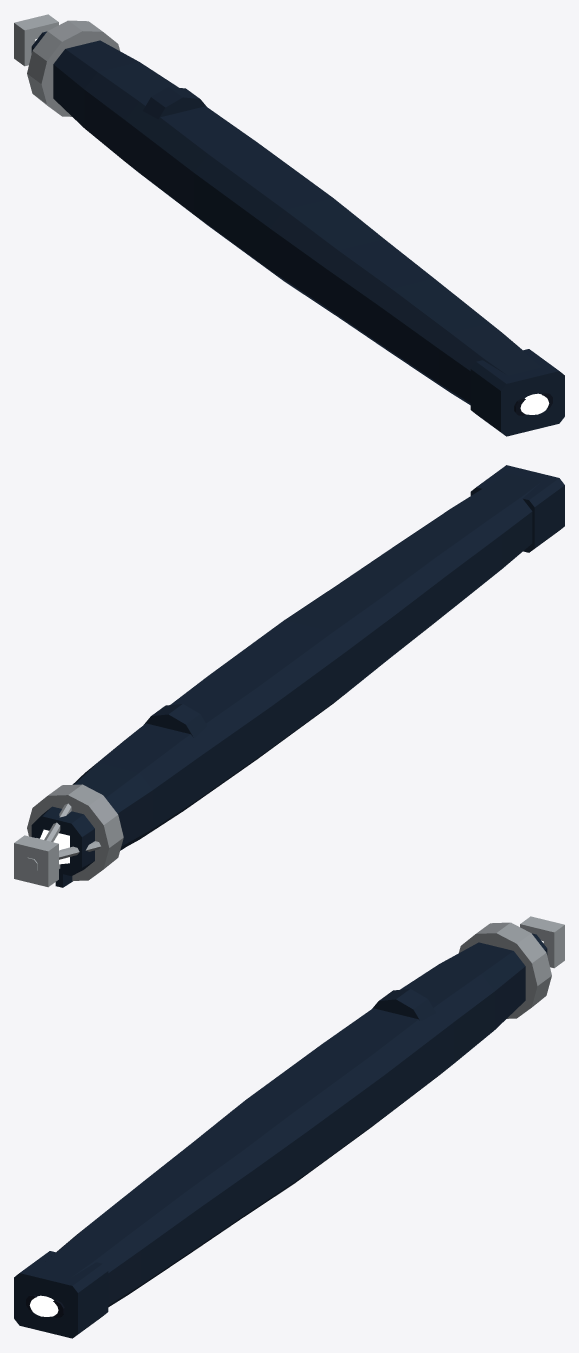
3 views of the same model, one above another, from view 1: azimuth 30°, elevation 25°; view 2: azimuth 150°, elevation 25°; view 3: azimuth 330°, elevation 25° (orthographic).
Parts seen in each view (by area): view 1: RIMWARD_HULL; view 2: RIMWARD_HULL; view 3: RIMWARD_HULL.
Part boxes in pixels (box(x1,y1,x2,y2)): RIMWARD_HULL: box(14, 14, 564, 436); RIMWARD_HULL: box(14, 465, 564, 887); RIMWARD_HULL: box(14, 916, 564, 1338).
Bounding box in the file's own units: 0.7202 × 0.8199 × 7.73.
